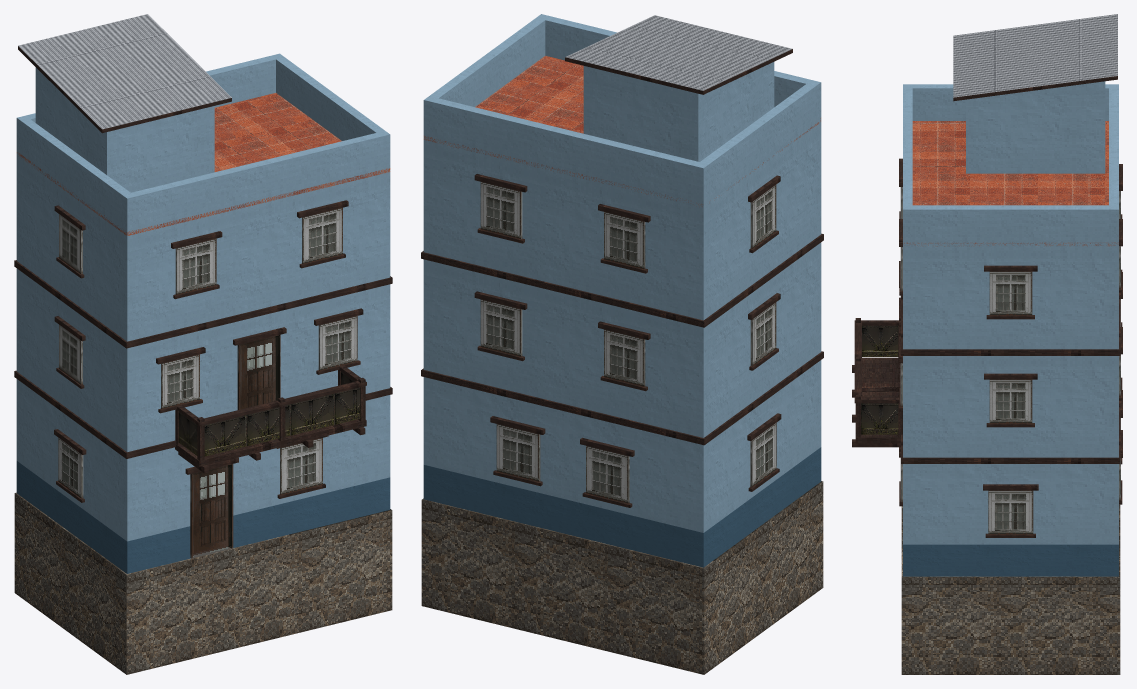
File: 20_andina3p_celeste_azotea.glb
3 views of the same model, side by side, from view 1: azimuth 30°, elevation 25°; view 2: azimuth 150°, elevation 25°; view 3: azimuth 270°, elevation 25° (orthographic). The views are drawn at different scales.
Visible parts, largest first — view 1: 20_andina3p_celeste_azotea; view 2: 20_andina3p_celeste_azotea; view 3: 20_andina3p_celeste_azotea.
Boxes of the visible parts, bbox=[...] form: 20_andina3p_celeste_azotea: bbox=[14, 14, 392, 674]; 20_andina3p_celeste_azotea: bbox=[421, 14, 823, 674]; 20_andina3p_celeste_azotea: bbox=[852, 14, 1122, 674].
Bounding box in the file's own units: 6.78 × 13.13 × 6.02.
9 materials, 9 textured.
